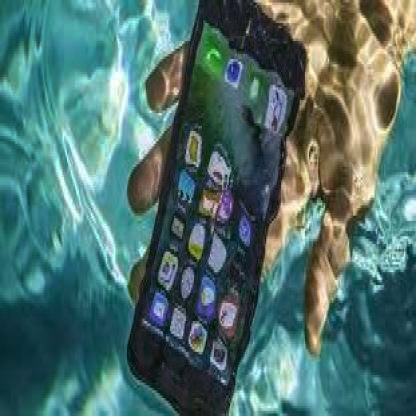cellphone: (131, 7, 305, 416)
